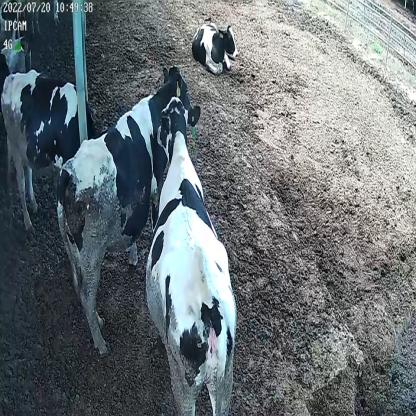cow: (53, 62, 205, 350), (148, 98, 238, 413), (0, 66, 100, 233), (191, 14, 240, 73)
